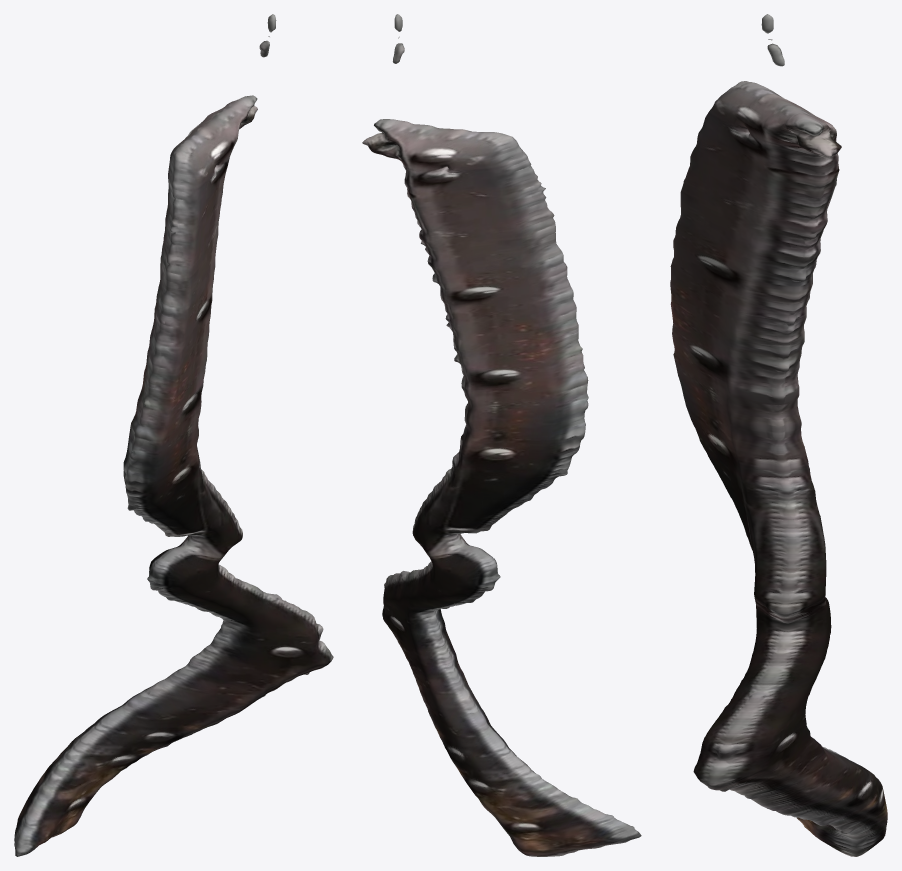
File: hy3d-mov-002.glb
3 views of the same model, side by side, from view 1: azimuth 30°, elevation 25°; view 2: azimuth 150°, elevation 25°; view 3: azimuth 270°, elevation 25° (orthographic). The views are drawn at different scales.
Visible parts, largest first — view 1: world; view 2: world; view 3: world.
Boxes of the visible parts, left/top/right/bottom form: world: left=14, top=14, right=333, bottom=856; world: left=362, top=14, right=641, bottom=856; world: left=670, top=14, right=887, bottom=856.
Bounding box in the file's own units: 0.9118 × 2.39 × 0.5002.
1 material, 1 textured.
